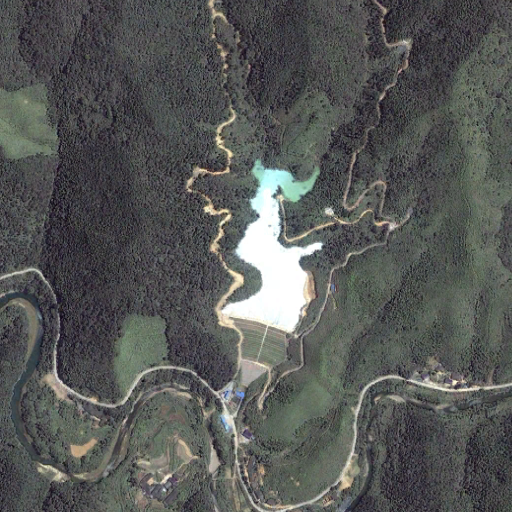tp: (224, 160, 325, 370)
